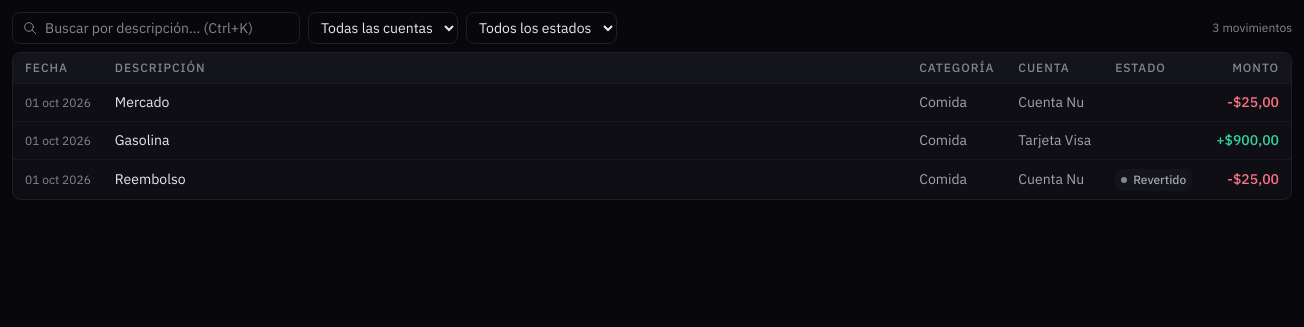
it: TransactionsPage › filters by account and reports the honest empty state
The width and height of the screenshot is (1304, 327).
Select "Tarjeta Visa" in the dropdown named "Filtrar por cuenta". click: (383, 28)
box: top-left (308, 12), bottom-right (458, 44)
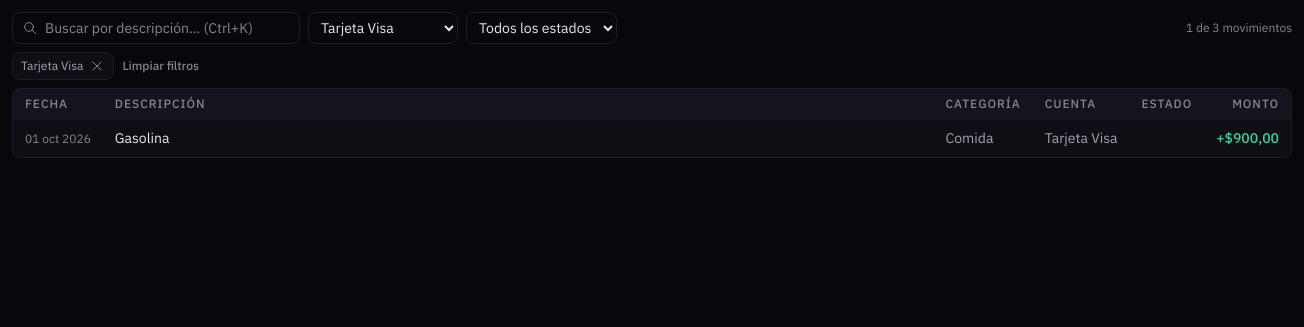
Expected: the text "Tarjeta Visa" is shown, top-left (1033, 120), bottom-right (1130, 157)
Expected: the text "Gasolina" is shown, top-left (103, 120), bottom-right (934, 157)
// A filter that matches nothing shows the no-results state, never an error.
Type "zzz" into the field named "Buscar movimientos por descripción". click: (156, 28)
box: top-left (12, 12), bottom-right (300, 44)
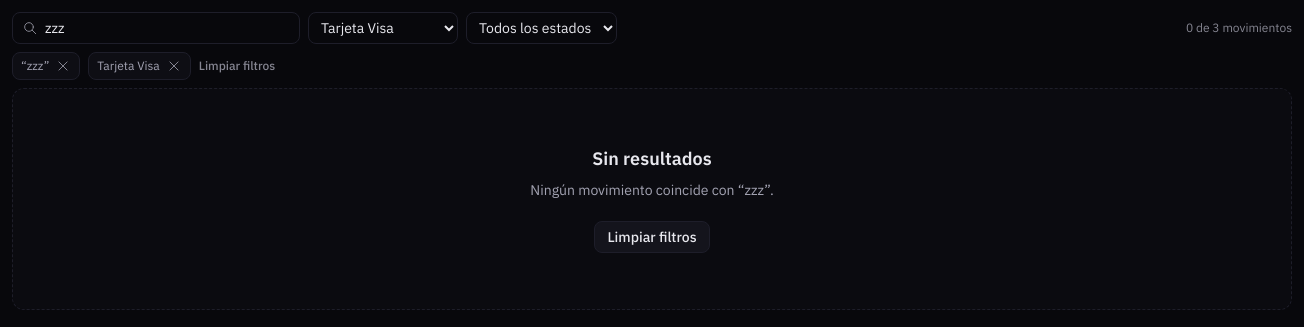
Now the heading "Sin resultados" is shown, box top-left (592, 145), bottom-right (712, 172)
